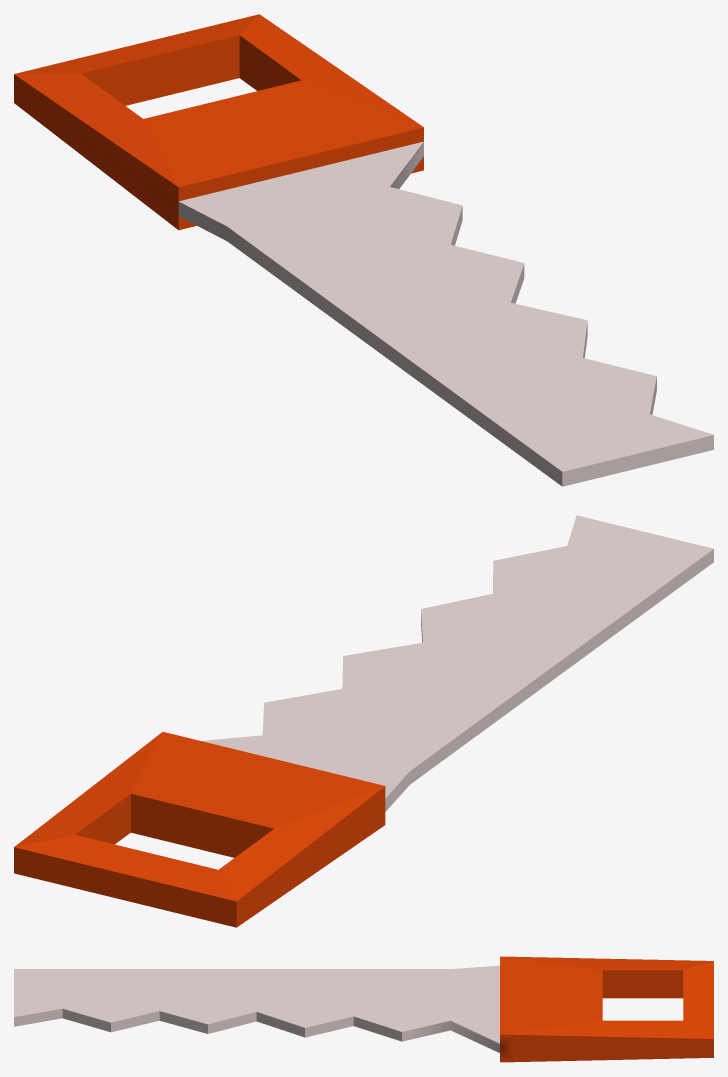
File: Saw.fbx
The picture shows the model from 3 angles, top to bottom: view 1: azimuth 30°, elevation 25°; view 2: azimuth 150°, elevation 25°; view 3: azimuth 270°, elevation 25°; orthographic projection. The views are drawn at different scales.
Parts seen in each view (by area): view 1: pPlane1; view 2: pPlane1; view 3: pPlane1.
Boxes of the visible parts, x1=… form: pPlane1: x1=14, y1=14, x2=713, y2=486; pPlane1: x1=14, y1=515, x2=713, y2=927; pPlane1: x1=14, y1=956, x2=713, y2=1062.
Bounding box in the file's own units: 0.3463 × 0.0579 × 1.31.
